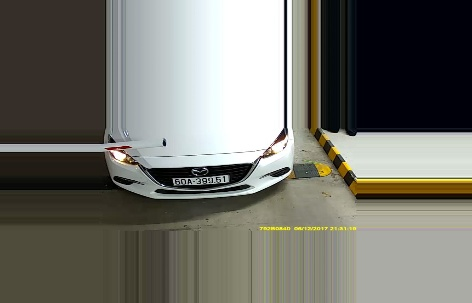plate: (172, 177, 231, 186)
